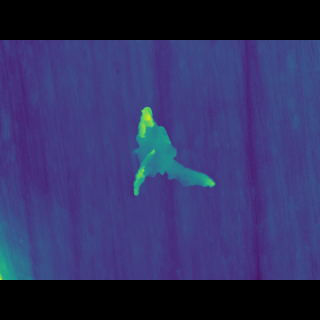Loch: (122, 119, 221, 190)
